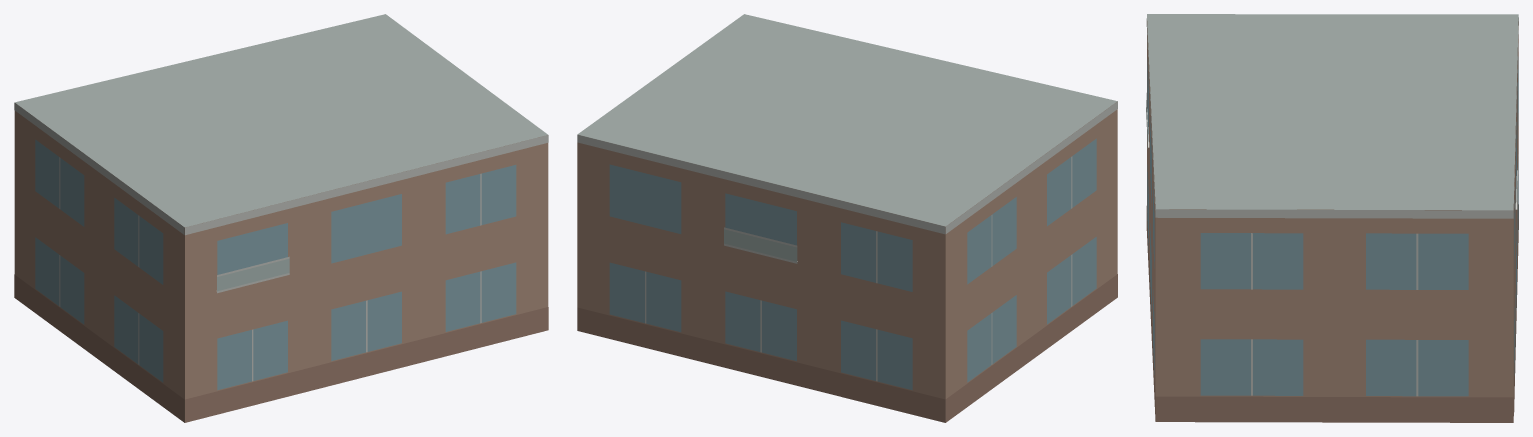
Rendered from survey-upis-32577880.glb.
The picture shows the model from 3 angles, left to right: view 1: azimuth 30°, elevation 25°; view 2: azimuth 150°, elevation 25°; view 3: azimuth 270°, elevation 25°; orthographic projection. The views are drawn at different scales.
Visible parts, largest first — view 1: survey-upis-32577880.tmp; view 2: survey-upis-32577880.tmp; view 3: survey-upis-32577880.tmp.
Boxes of the visible parts, box(x1,y1,x2,y2) form: survey-upis-32577880.tmp: box(14, 14, 548, 422); survey-upis-32577880.tmp: box(577, 14, 1117, 422); survey-upis-32577880.tmp: box(1146, 14, 1518, 422).
Bounding box in the file's own units: 12.08 × 6.1 × 9.69.
